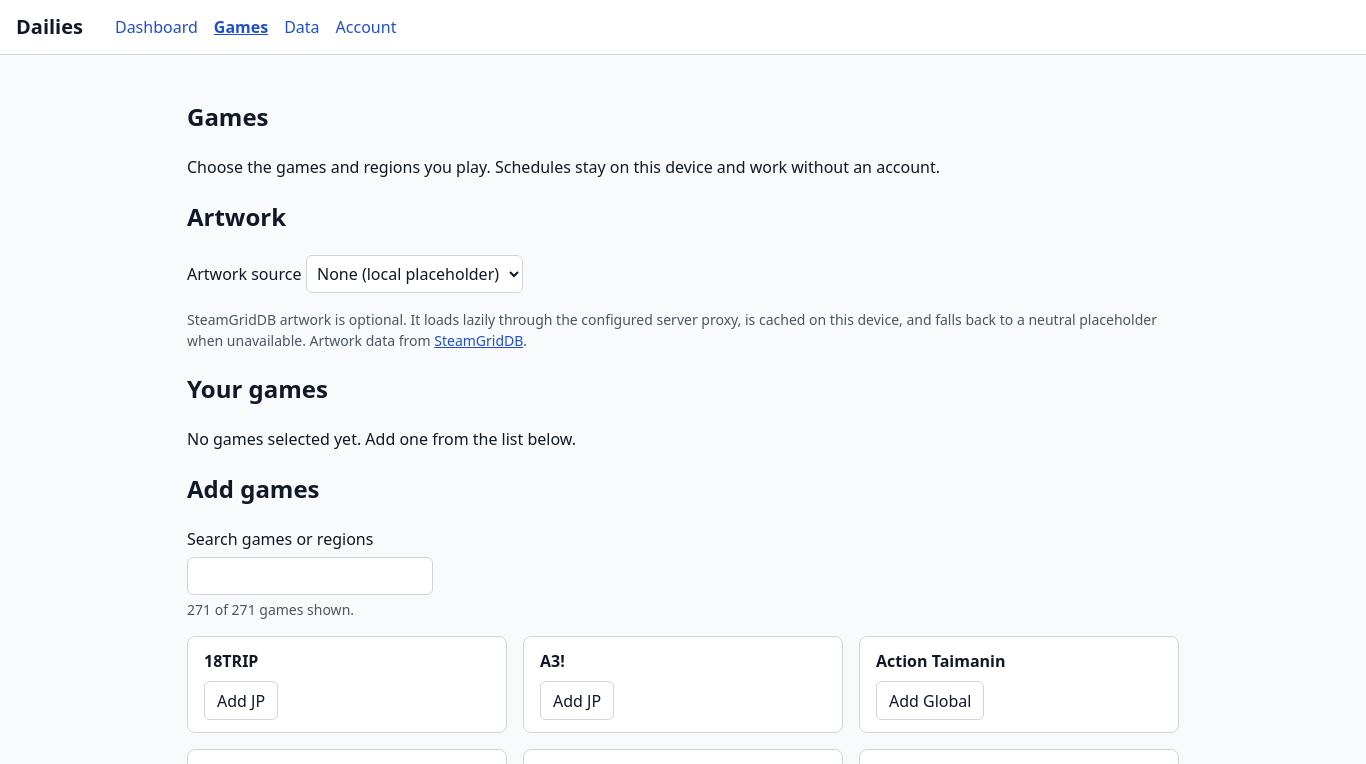
game selection › searches the catalog and adds a game region
Check: the heading "Games" is shown, box [187,100,269,133]
Check: the text "No games selected yet. Add one from the list below." is shown, box [187,428,576,450]
In the search field labelled "Search games or regions": (310, 576) [187,557,433,595], type "AFK Arena"
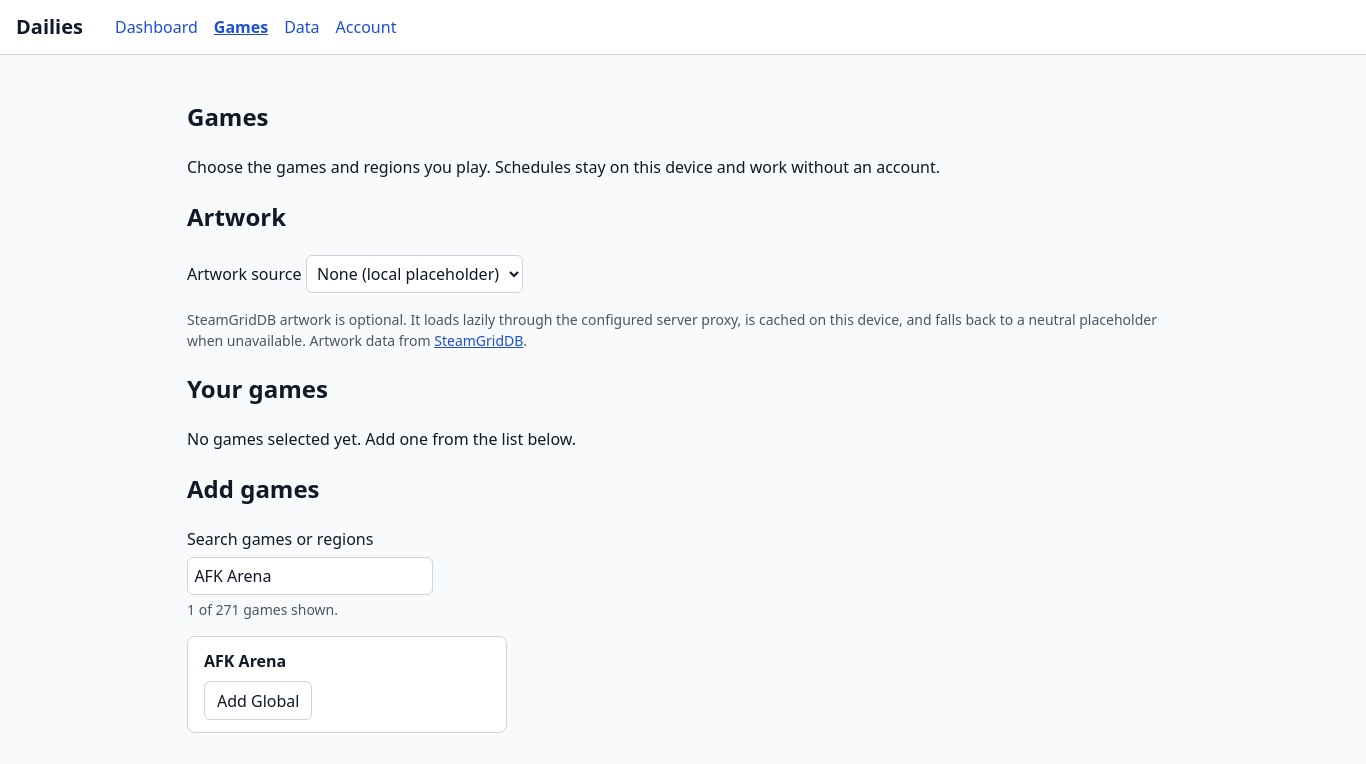
Click the button with aria-label "Add AFK Arena (Global)": (258, 701) [204,681,312,720]
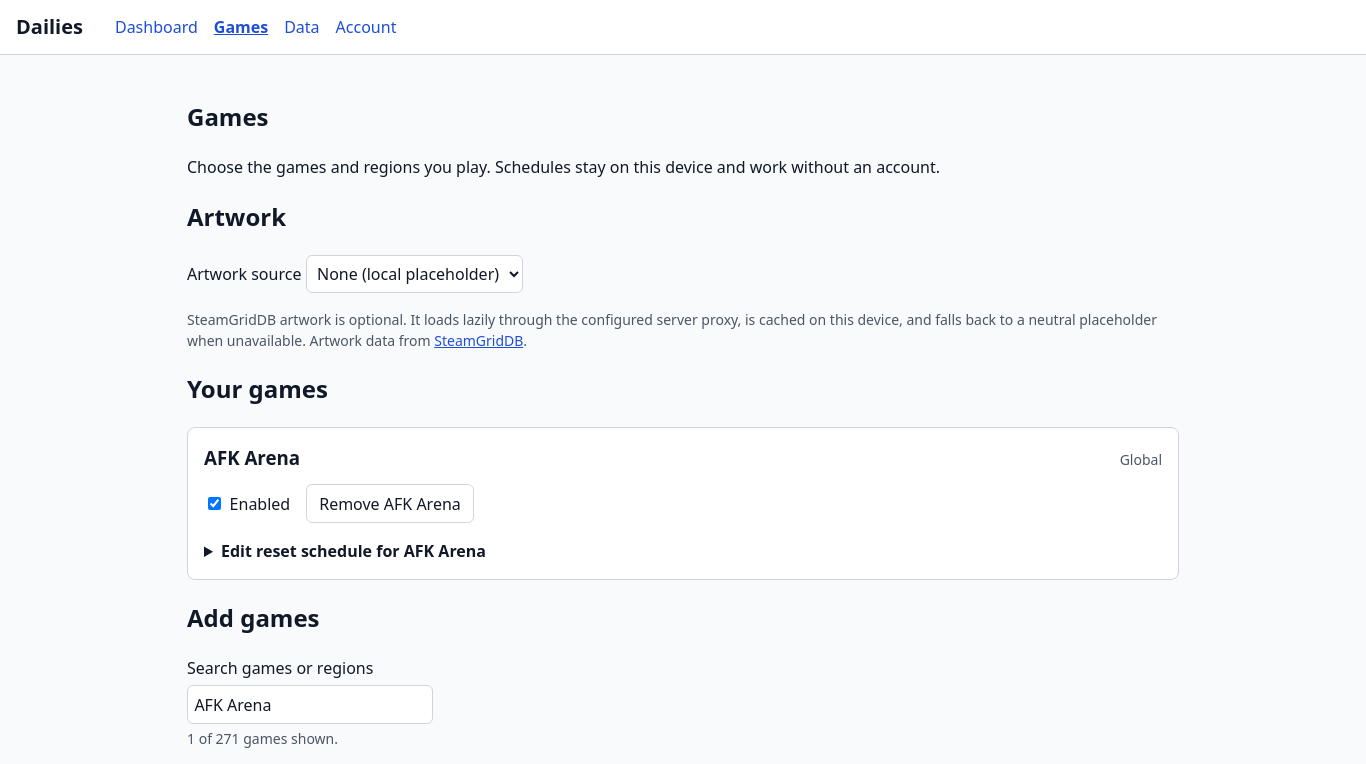
Check: the checkbox labelled "Enabled" is checked, box [208,497,221,510]
